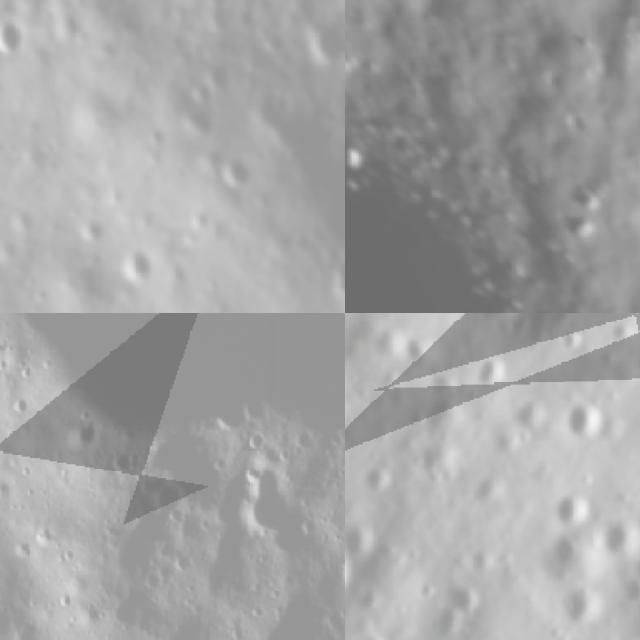crater: (425, 577, 501, 640), (214, 142, 257, 206), (110, 247, 162, 296), (59, 411, 106, 465), (552, 585, 606, 632), (542, 486, 591, 537), (562, 398, 610, 448), (546, 313, 598, 359), (309, 11, 345, 71), (510, 402, 552, 446), (356, 461, 397, 505), (400, 330, 439, 373), (467, 354, 511, 392), (598, 516, 637, 556), (345, 522, 378, 563), (0, 9, 26, 60), (345, 616, 400, 640), (473, 313, 528, 330), (622, 578, 640, 615), (625, 549, 640, 583), (332, 554, 345, 592), (438, 313, 471, 326)
